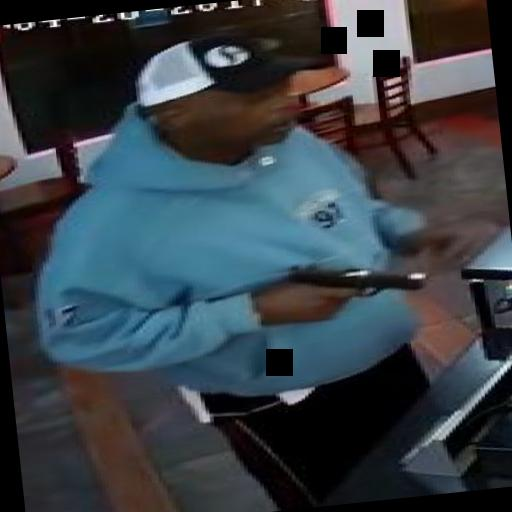Handgun: (274, 253, 432, 323)
